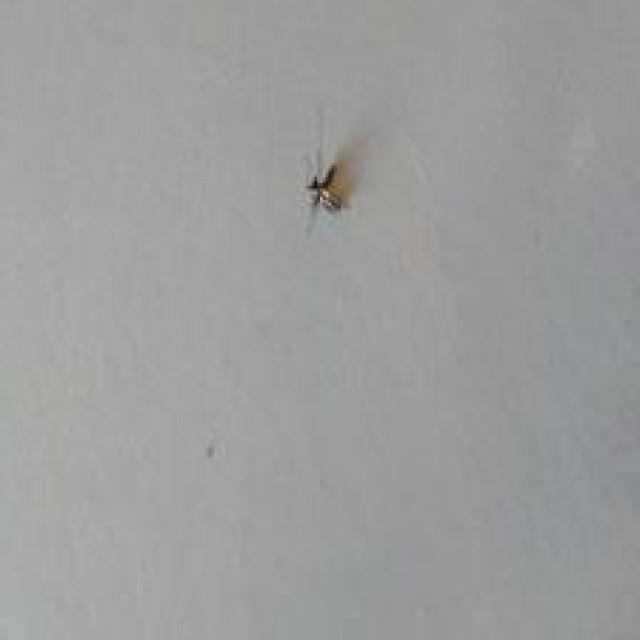Aedes albopictus: (304, 160, 350, 214)
